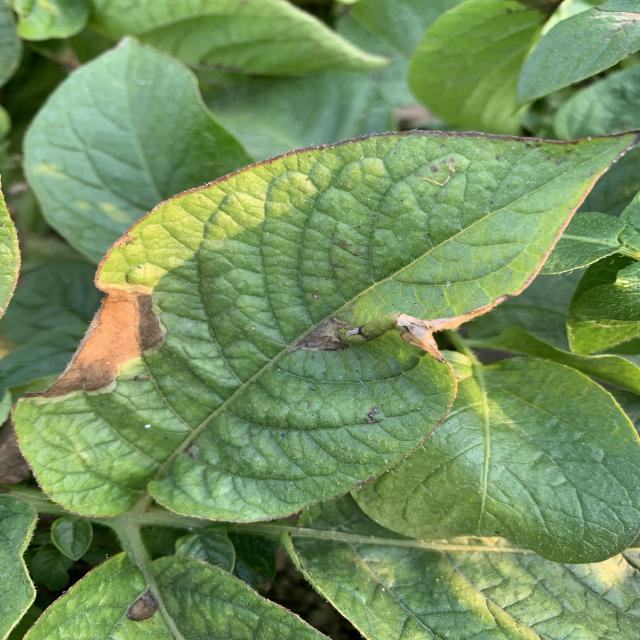lateblight: (40, 290, 165, 398), (290, 304, 495, 362), (287, 316, 350, 354)
